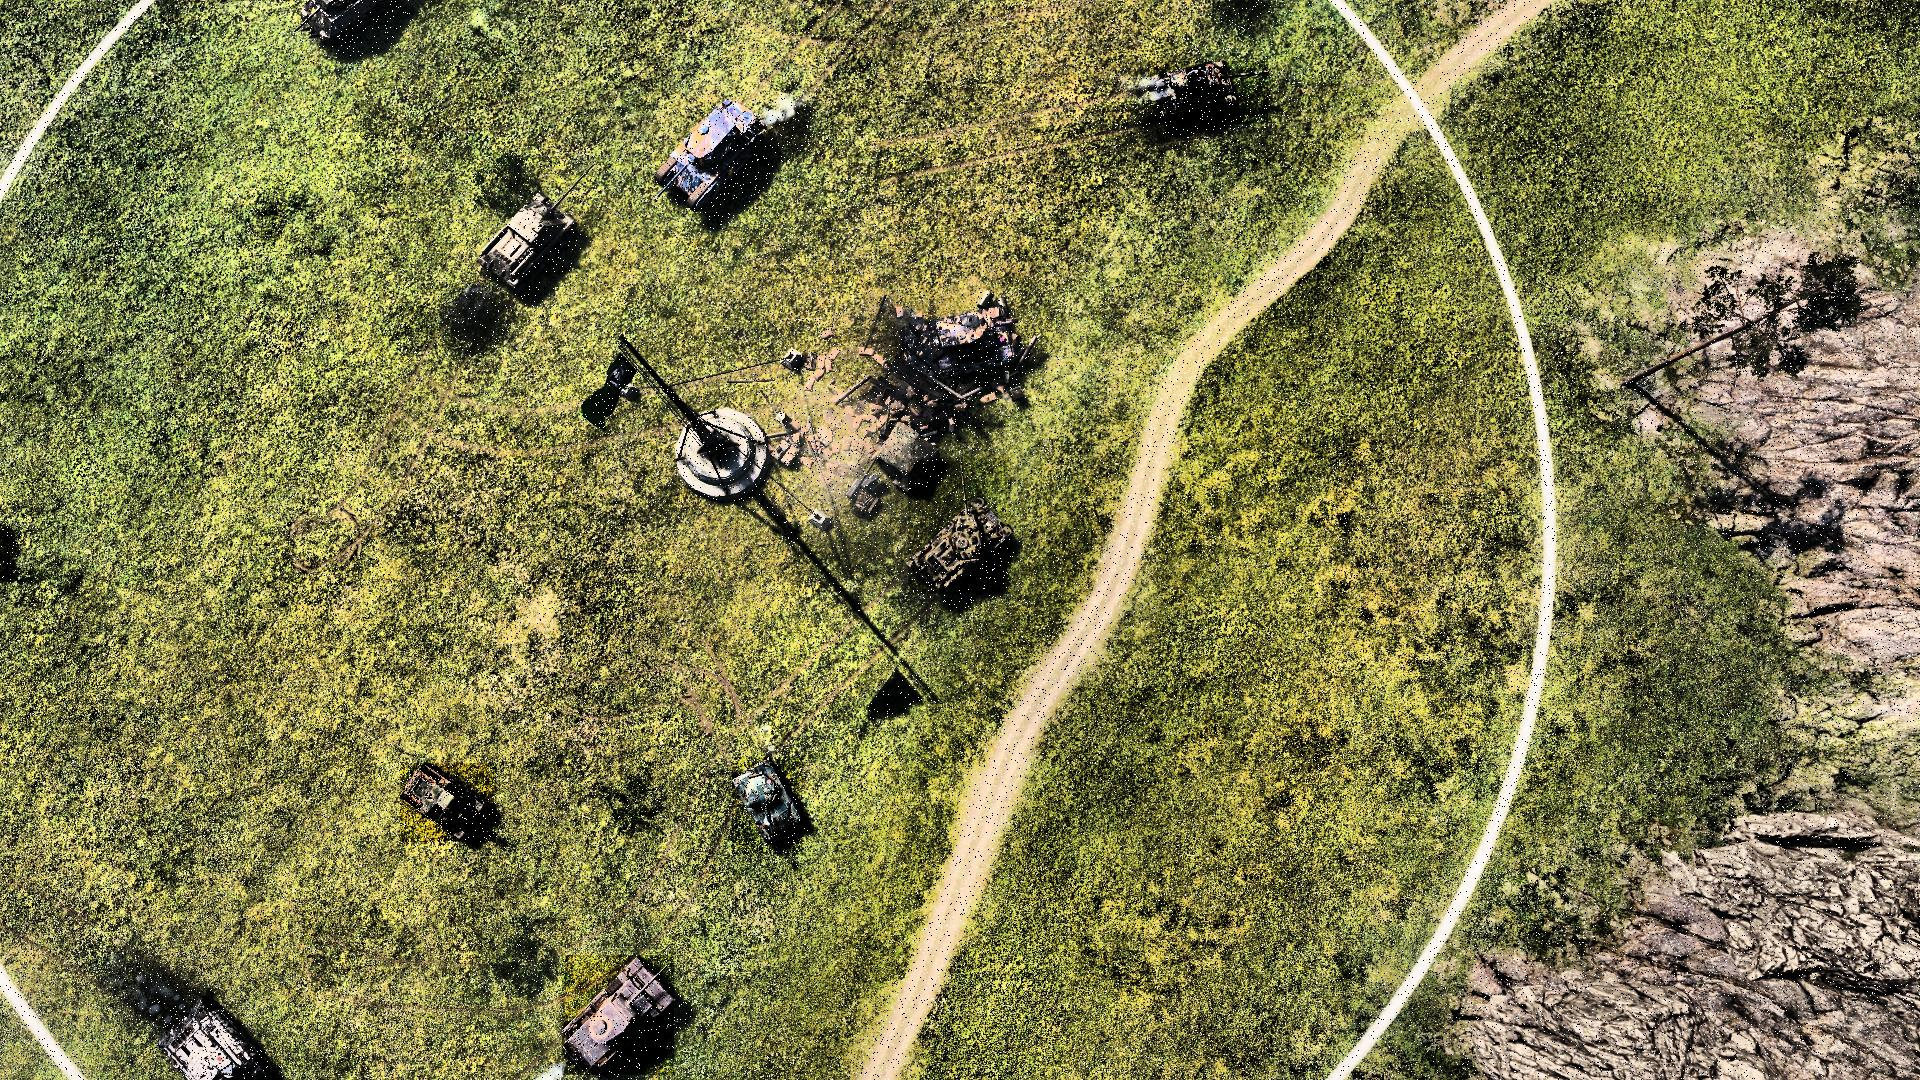military-vehicle: (477, 166, 599, 290), (909, 458, 1011, 595), (563, 955, 675, 1075), (654, 102, 766, 216), (401, 764, 497, 843), (1149, 61, 1267, 124), (733, 757, 804, 855)
